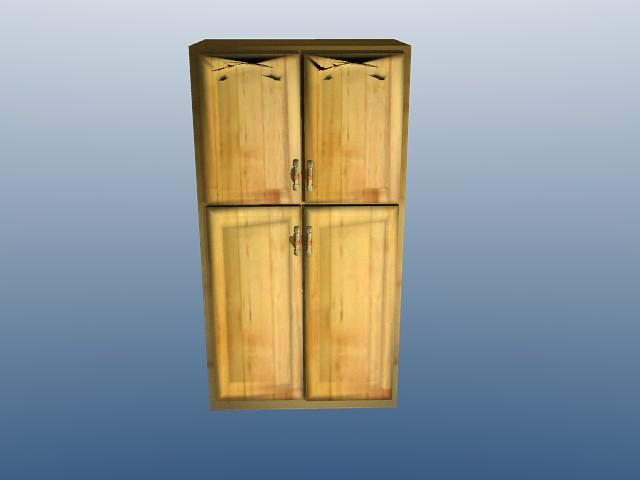cabinet_door: (212, 206, 304, 400), (304, 205, 395, 399), (202, 51, 302, 206), (303, 51, 402, 205)
handle: (299, 224, 317, 262), (285, 222, 300, 261), (287, 153, 302, 191), (305, 156, 318, 191)
